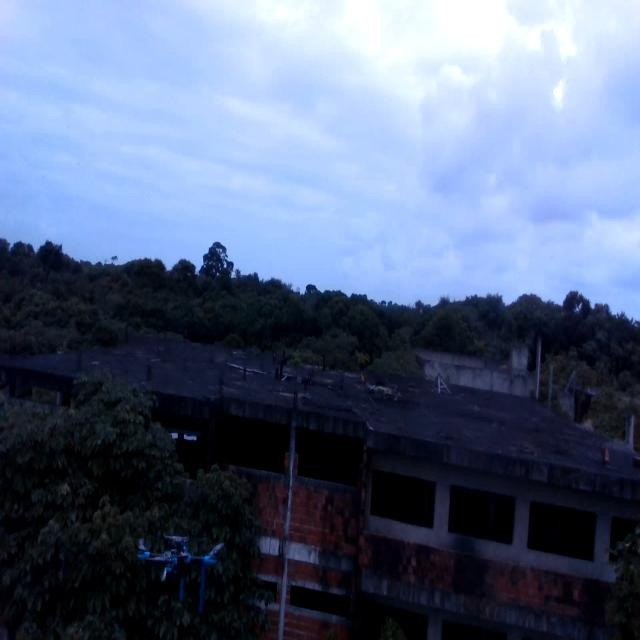-uav-: (130, 514, 235, 624)
